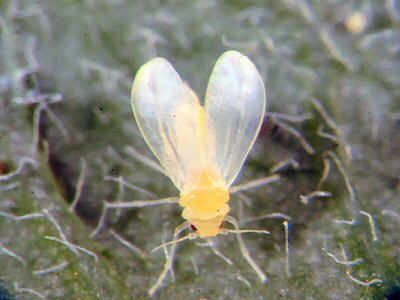whitefly: (94, 50, 294, 290)
